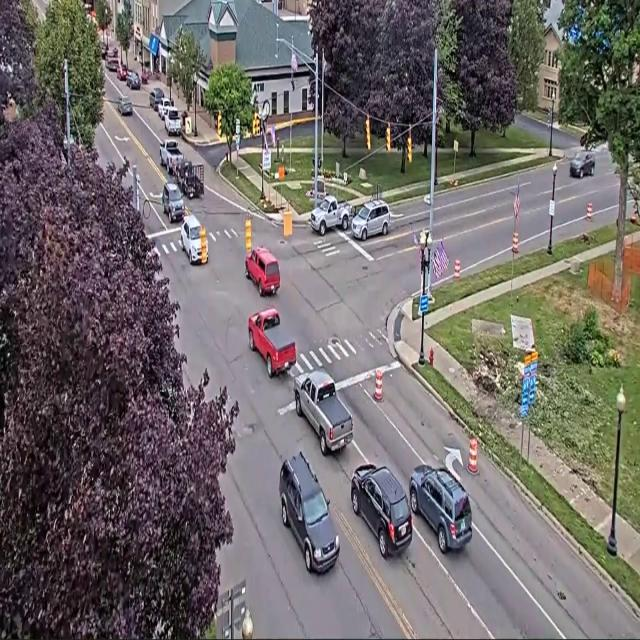car: (279, 452, 339, 572), (351, 464, 412, 557), (410, 464, 471, 553), (245, 248, 280, 295), (352, 200, 390, 240), (180, 214, 202, 264), (162, 183, 184, 222), (570, 152, 594, 177), (163, 107, 181, 135), (157, 97, 173, 119), (150, 88, 164, 111), (126, 70, 142, 90), (118, 96, 132, 115), (117, 64, 128, 81), (107, 58, 119, 71), (101, 44, 109, 59)
traffic signal: (245, 216, 252, 253), (407, 133, 412, 162), (253, 112, 259, 136), (366, 117, 370, 150), (386, 125, 390, 151), (217, 112, 221, 137), (547, 107, 551, 124)
truck: (294, 370, 353, 455), (248, 308, 296, 377), (310, 195, 352, 236), (176, 160, 203, 199), (160, 140, 183, 175)
